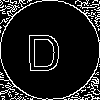D: (25, 25, 62, 72)
